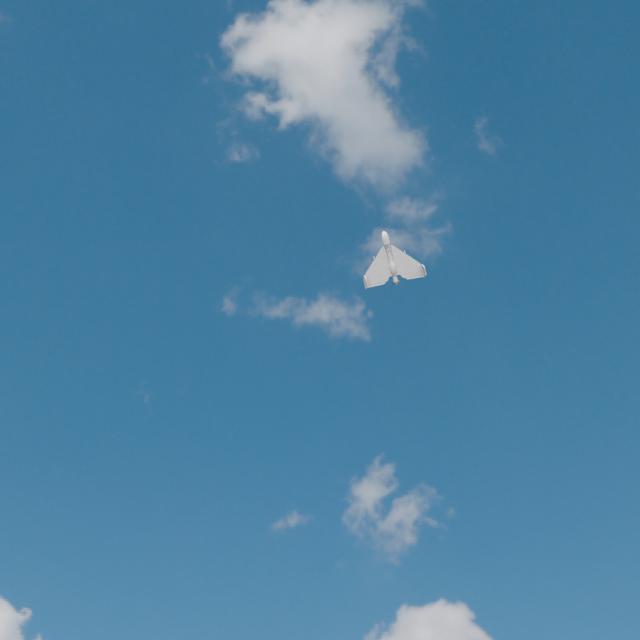Airaplan: (364, 231, 427, 289)
